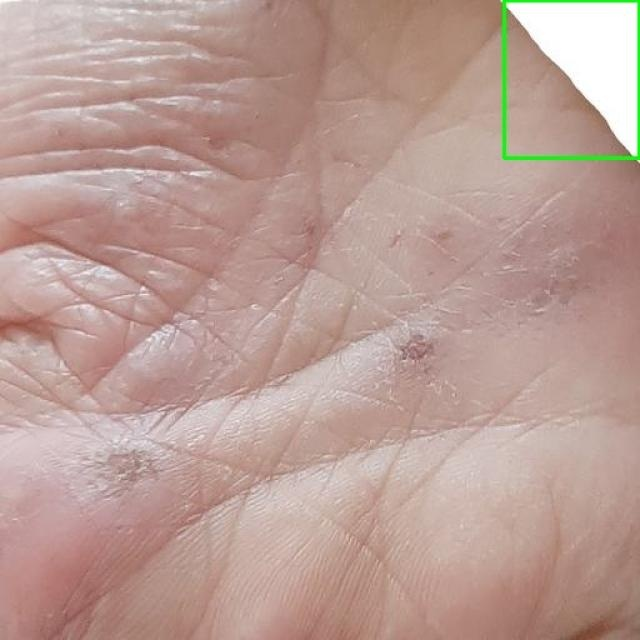Contact Dermatitis: (504, 0, 639, 158)
